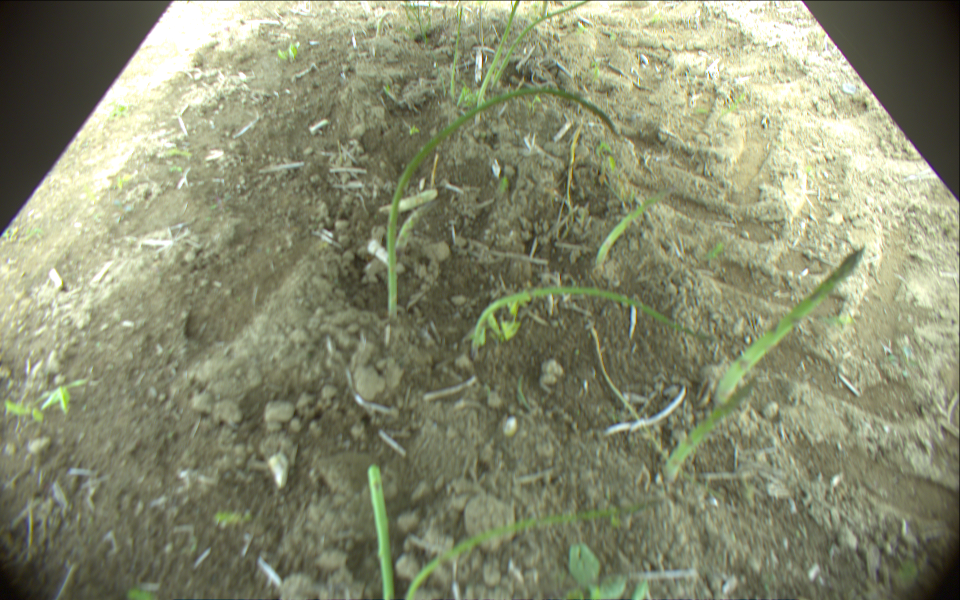aspa: (384, 89, 621, 321), (402, 496, 668, 600), (709, 245, 867, 403), (470, 285, 712, 356), (660, 371, 760, 483), (491, 1, 596, 89), (592, 187, 673, 269), (473, 1, 524, 127), (368, 463, 395, 600), (449, 5, 465, 102), (539, 1, 550, 18)
